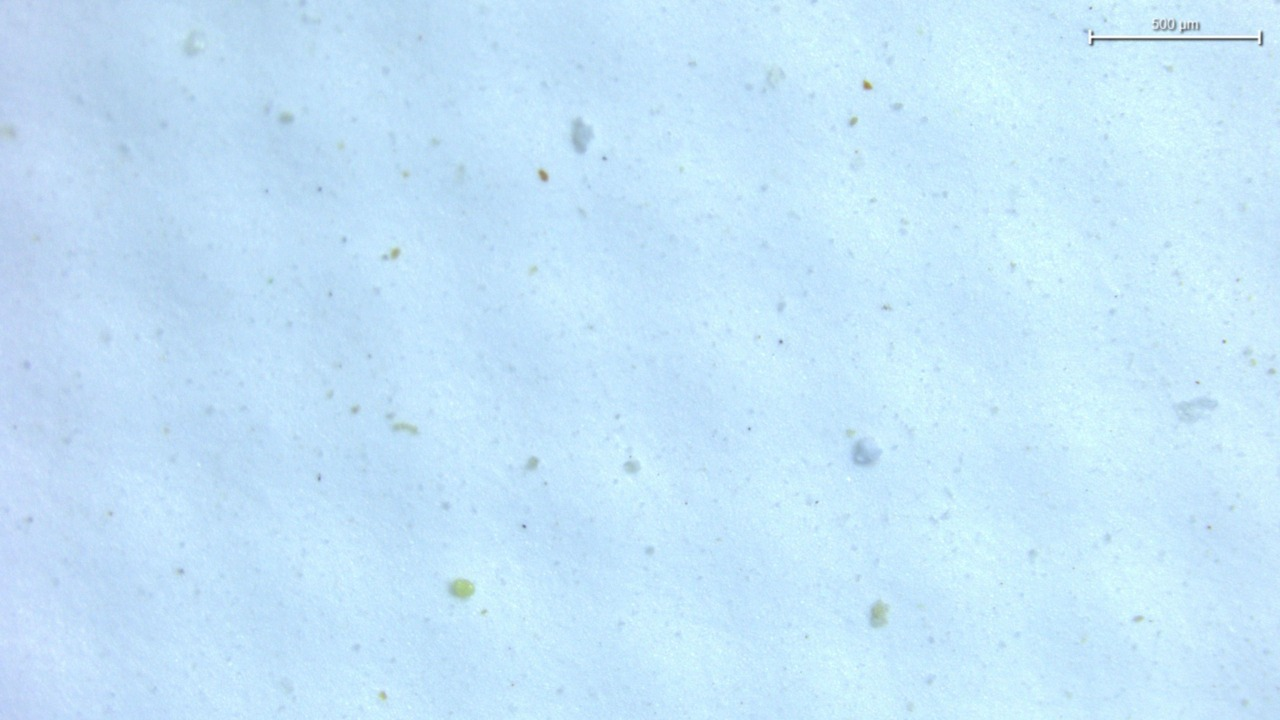microplastic_fragment: (851, 437, 882, 466)
